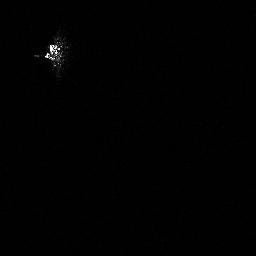ship: (42, 37, 65, 68)
